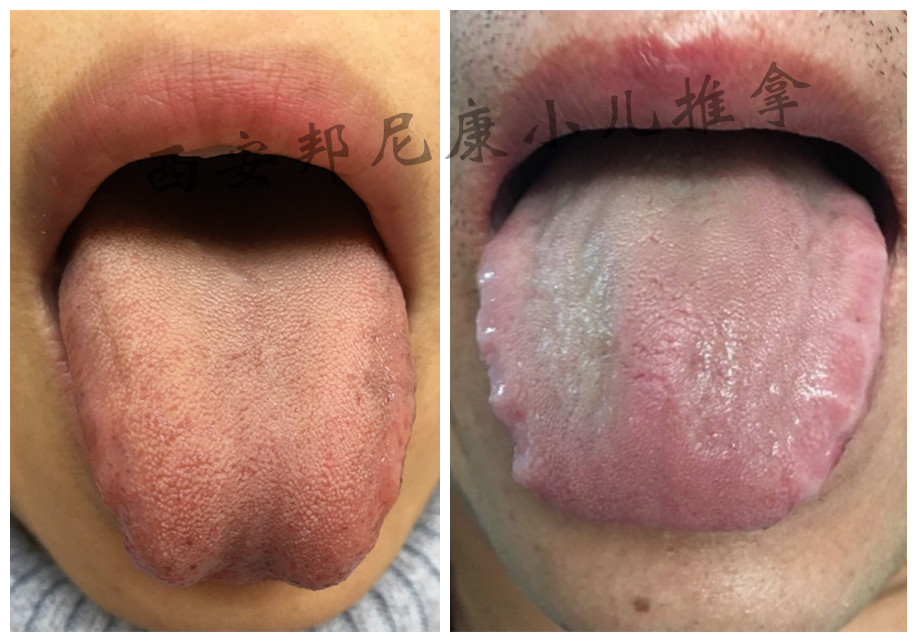baitaishe: (476, 155, 889, 530), (59, 175, 416, 590)
chihenshe: (476, 272, 517, 478)
xinfeiao: (178, 536, 318, 591)
